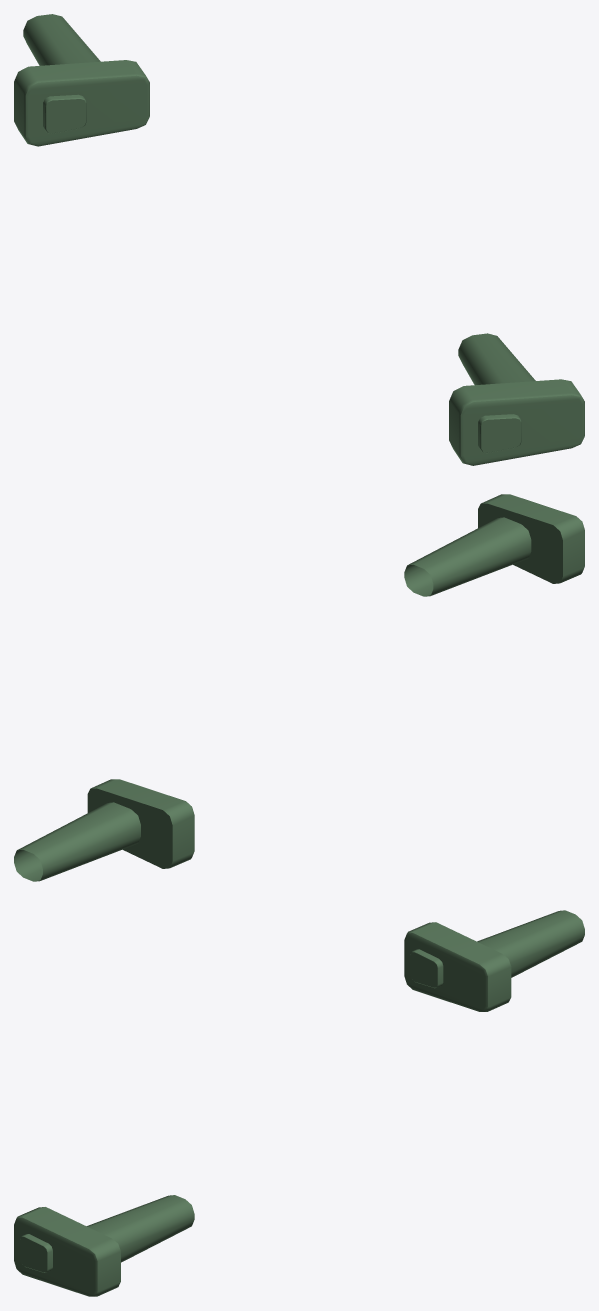
File: gr_conroller.fbx
3 views of the same model, one above another, from view 1: azimuth 30°, elevation 25°; view 2: azimuth 150°, elevation 25°; view 3: azimuth 330°, elevation 25° (orthographic). The views are drawn at different scales.
Parts seen in each view (by area): view 1: controller_rt, controller_lt; view 2: controller_rt, controller_lt; view 3: controller_rt, controller_lt.
Part boxes in pixels (x1,y1,x2,y2): controller_rt: (14, 14, 149, 146); controller_lt: (449, 333, 584, 465); controller_rt: (14, 779, 194, 881); controller_lt: (404, 494, 584, 596); controller_rt: (404, 910, 584, 1011); controller_lt: (14, 1195, 194, 1296).
Size of the model in its own units: 13.45 by 6.92 by 102.
